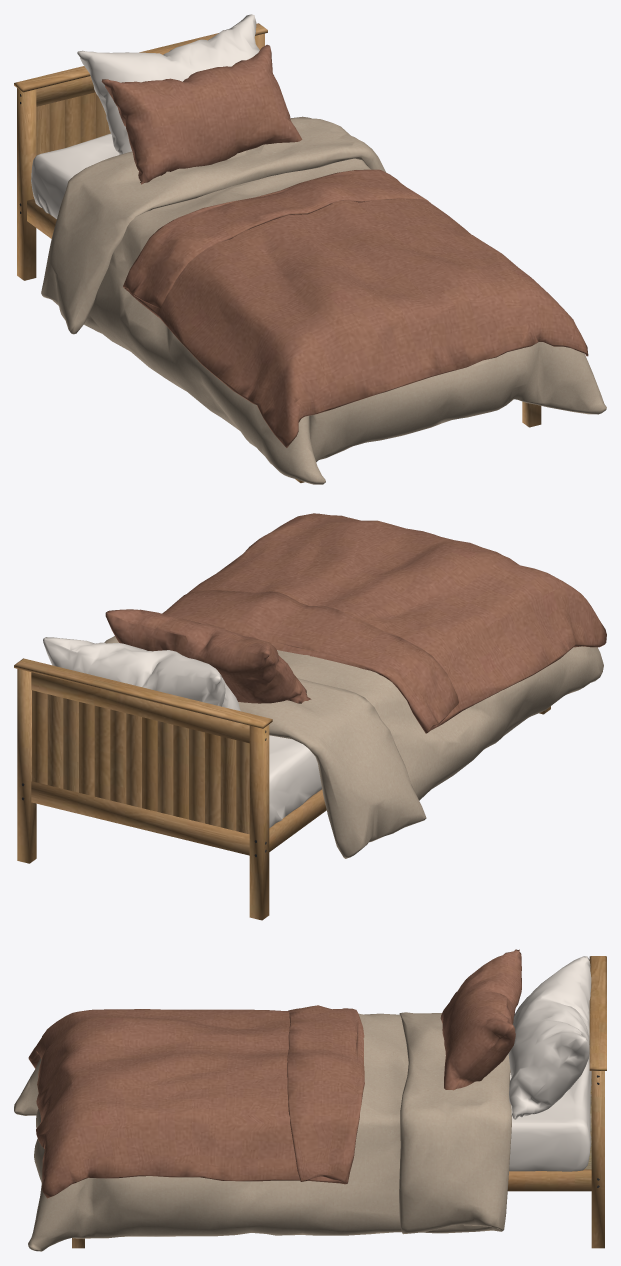
Rendered from cargo_bed_e.glb.
3 renders of one model, top to bottom at view 1: azimuth 30°, elevation 25°; view 2: azimuth 150°, elevation 25°; view 3: azimuth 270°, elevation 25°, orthographic. The views are drawn at different scales.
Parts seen in each view (by area): view 1: KB3D_API_PropBed_E_Main; view 2: KB3D_API_PropBed_E_Main; view 3: KB3D_API_PropBed_E_Main.
Part boxes in pixels (x1=…): KB3D_API_PropBed_E_Main: x1=14, y1=14, x2=606, y2=484; KB3D_API_PropBed_E_Main: x1=14, y1=513, x2=606, y2=920; KB3D_API_PropBed_E_Main: x1=14, y1=949, x2=606, y2=1251.
Bounding box in the file's own units: 1.34 × 0.8286 × 2.15.
6 materials, 6 textured.
